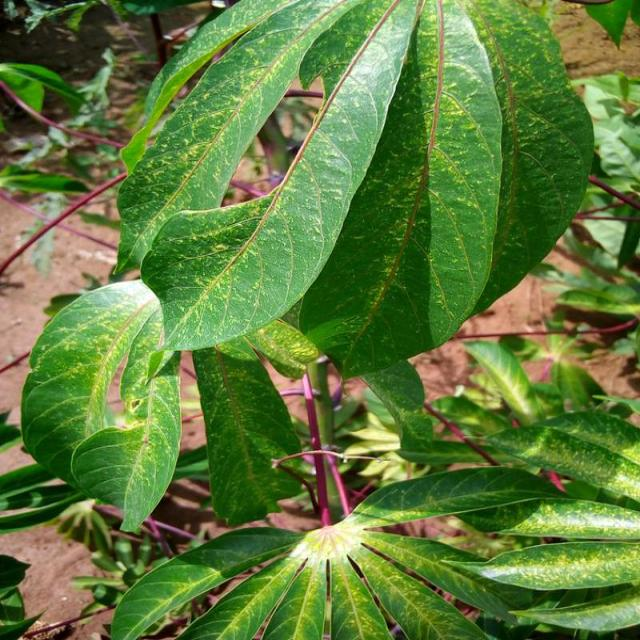cassava leaf: (131, 0, 421, 356), (296, 0, 504, 381), (19, 276, 182, 534)
